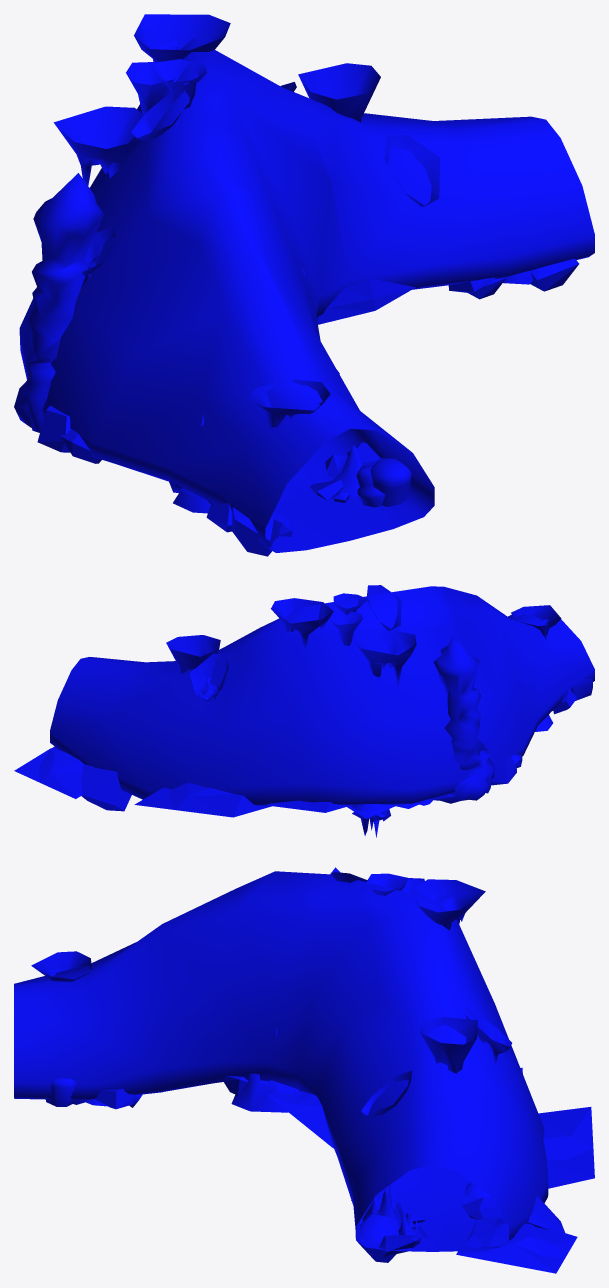
Rendered from cave_90deg_collider.dae.
3 renders of one model, top to bottom at view 1: azimuth 30°, elevation 25°; view 2: azimuth 150°, elevation 25°; view 3: azimuth 270°, elevation 25°, orthographic. The views are drawn at different scales.
Visible parts, largest first — view 1: Cave_90Deg_Collider; view 2: Cave_90Deg_Collider; view 3: Cave_90Deg_Collider.
Part boxes in pixels (box(x1,y1,x2,y2)): Cave_90Deg_Collider: box(14, 14, 594, 556); Cave_90Deg_Collider: box(14, 585, 594, 837); Cave_90Deg_Collider: box(14, 867, 594, 1273).
Size of the model in its own units: 669 by 694 by 363.
